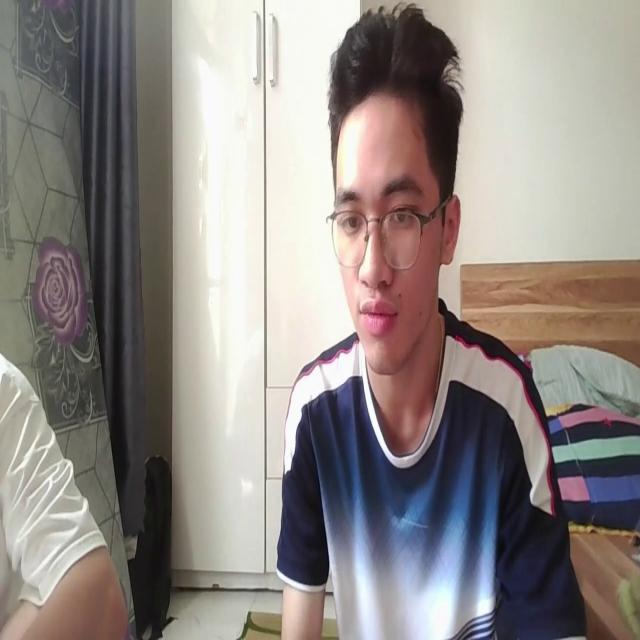extra_person: (0, 348, 131, 640)
student: (273, 3, 585, 640)
